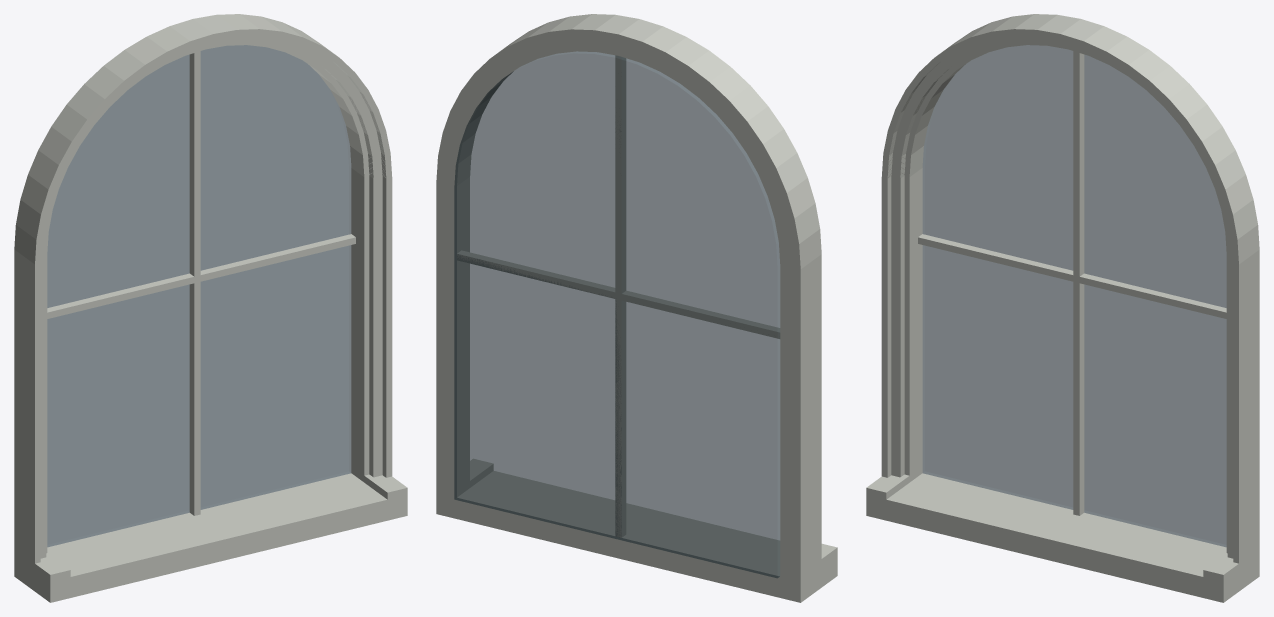
Rendered from clasico_arch.glb.
3 views of the same model, side by side, from view 1: azimuth 30°, elevation 25°; view 2: azimuth 150°, elevation 25°; view 3: azimuth 330°, elevation 25° (orthographic).
Visible parts, largest first — view 1: window_glass#0001, window_sill#0001, window_reveal#0001, window_profile#0020, window_mullion#0001, window_profile#0009, window_profile#0010, window_profile#0001, window_profile#0017, window_profile#0019, window_profile#0011, window_profile#0018 (+5 smaller); view 2: window_glass#0001, window_reveal#0001, window_mullion#0001, window_profile#0020, window_sill#0001, window_profile#0001; view 3: window_glass#0001, window_sill#0001, window_reveal#0001, window_profile#0020, window_mullion#0001, window_profile#0009, window_profile#0010, window_profile#0001, window_profile#0017, window_profile#0019, window_profile#0011, window_profile#0018 (+5 smaller).
Part boxes in pixels (x1,y1,x2,y2): window_glass#0001: (47, 45, 351, 546); window_sill#0001: (22, 474, 407, 602); window_reveal#0001: (14, 14, 363, 584); window_profile#0020: (24, 21, 392, 590); window_mullion#0001: (47, 51, 355, 515); window_profile#0009: (44, 40, 375, 557); window_profile#0010: (41, 37, 377, 558); window_profile#0001: (46, 43, 365, 553); window_profile#0017: (39, 33, 387, 562); window_profile#0019: (36, 30, 390, 563); window_profile#0011: (40, 35, 380, 558); window_profile#0018: (38, 32, 389, 562); window_glass#0001: (454, 51, 780, 578); window_reveal#0001: (436, 20, 812, 602); window_mullion#0001: (457, 55, 780, 537); window_profile#0020: (505, 14, 821, 594); window_sill#0001: (465, 459, 837, 596); window_profile#0001: (467, 82, 779, 564); window_glass#0001: (922, 45, 1226, 546); window_sill#0001: (866, 473, 1251, 602); window_reveal#0001: (910, 14, 1259, 583); window_profile#0020: (881, 21, 1249, 591); window_mullion#0001: (918, 51, 1226, 515); window_profile#0009: (898, 40, 1229, 557); window_profile#0010: (896, 37, 1232, 558); window_profile#0001: (908, 43, 1227, 553); window_profile#0017: (886, 33, 1234, 562); window_profile#0019: (883, 30, 1237, 563); window_profile#0011: (893, 35, 1233, 558); window_profile#0018: (884, 32, 1235, 562).
Bounding box in the file's own units: 1.6 × 2.2 × 0.3.
